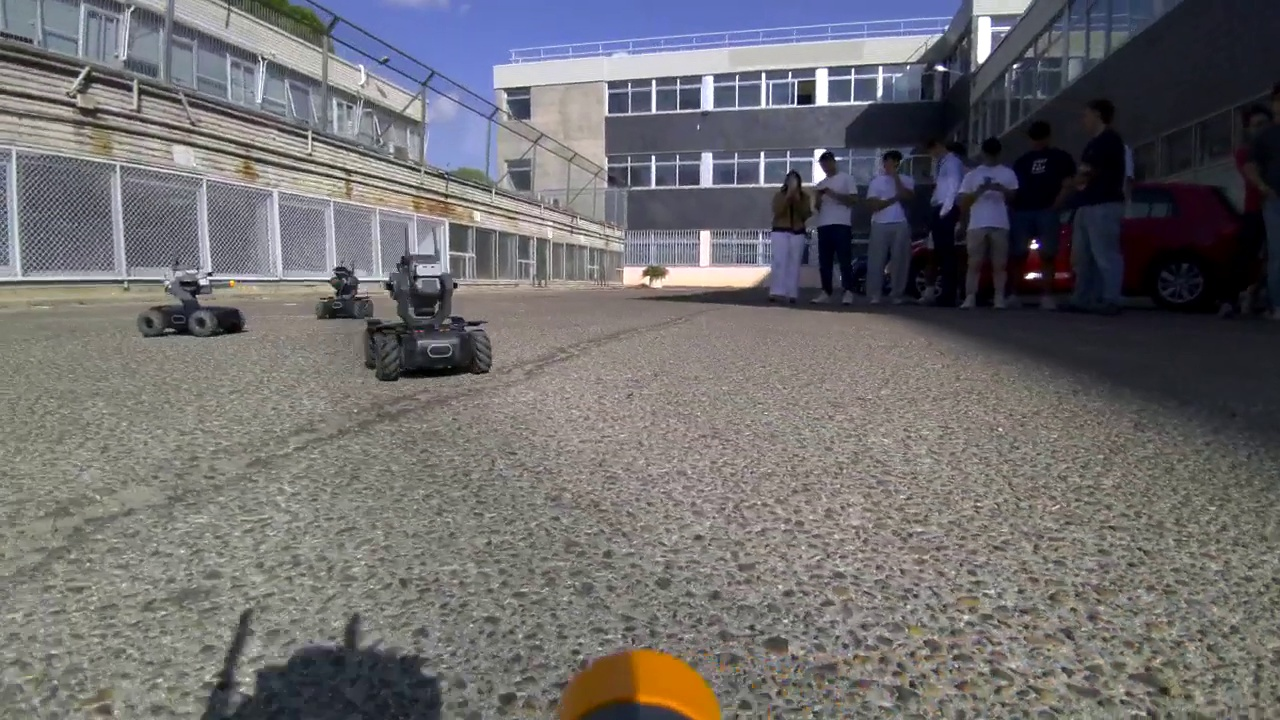robot: (361, 241, 495, 390), (136, 263, 248, 342), (316, 256, 370, 327)
